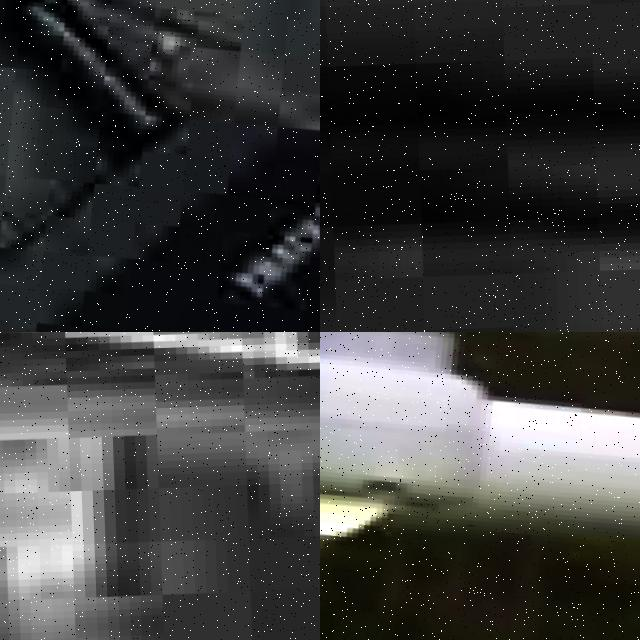0: (0, 0, 320, 332)
drone: (320, 332, 640, 640)
